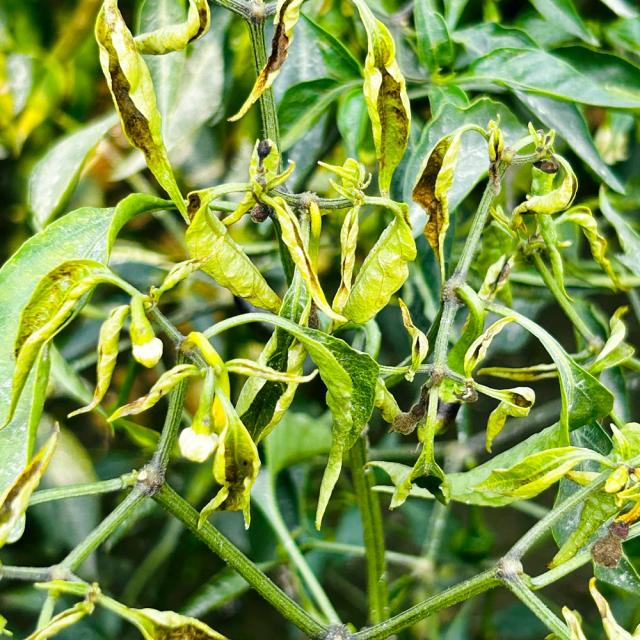Chilli_Leaf_Curl: (1, 1, 638, 636), (92, 0, 192, 224), (349, 0, 412, 198), (182, 194, 282, 314), (340, 212, 418, 326)
